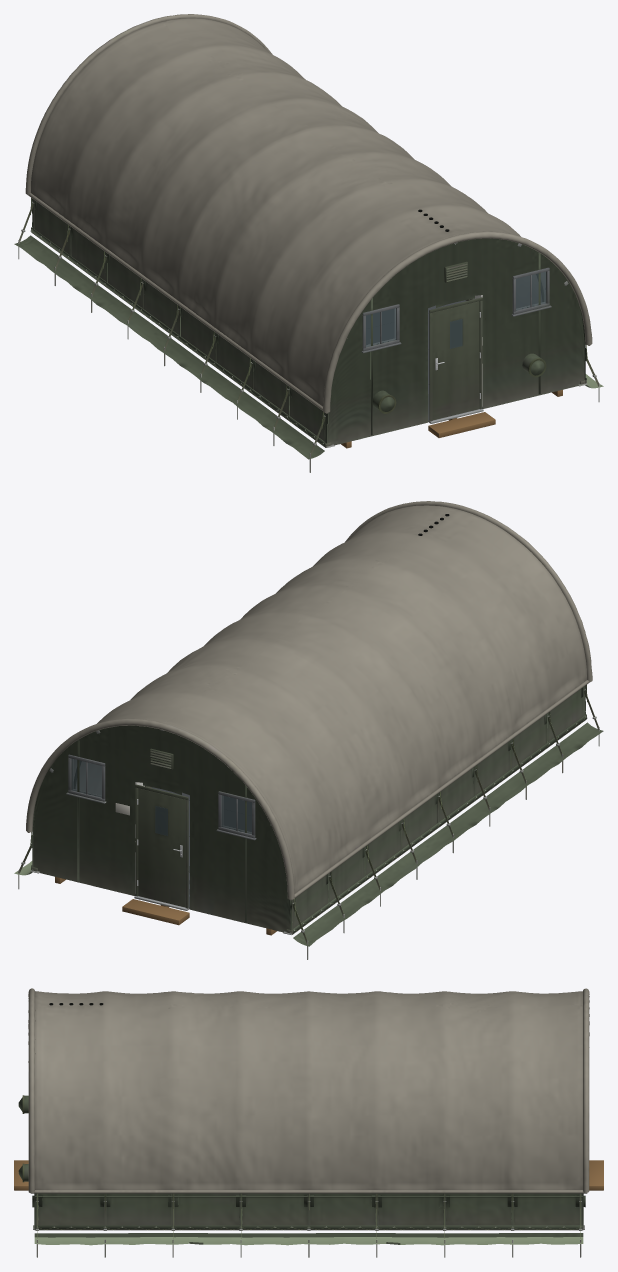
The model's file is series-4-ar.glb.
3 renders of one model, top to bottom at view 1: azimuth 30°, elevation 25°; view 2: azimuth 150°, elevation 25°; view 3: azimuth 270°, elevation 25°, orthographic. The views are drawn at different scales.
Visible parts, largest first — view 1: SERIES4_thermal_cap, SERIES4_shelter, SERIES4_floor; view 2: SERIES4_thermal_cap, SERIES4_shelter, SERIES4_floor; view 3: SERIES4_thermal_cap, SERIES4_shelter, SERIES4_floor.
Boxes of the visible parts, x1,y1,x2,y2 form: SERIES4_thermal_cap: [25, 14, 592, 428]; SERIES4_shelter: [14, 198, 603, 472]; SERIES4_floor: [341, 300, 562, 448]; SERIES4_thermal_cap: [26, 501, 592, 915]; SERIES4_shelter: [14, 685, 603, 959]; SERIES4_floor: [55, 787, 276, 935]; SERIES4_thermal_cap: [28, 988, 589, 1210]; SERIES4_shelter: [18, 1095, 585, 1257]; SERIES4_floor: [14, 1160, 603, 1190].
Bounding box in the file's own units: 5.71 × 3.76 × 10.59.
Materials: 20 (9 with a texture image).
